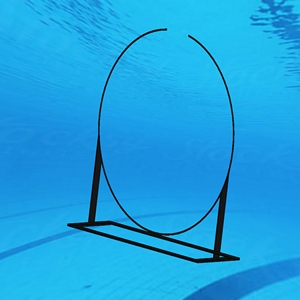circle: (65, 27, 242, 265)
